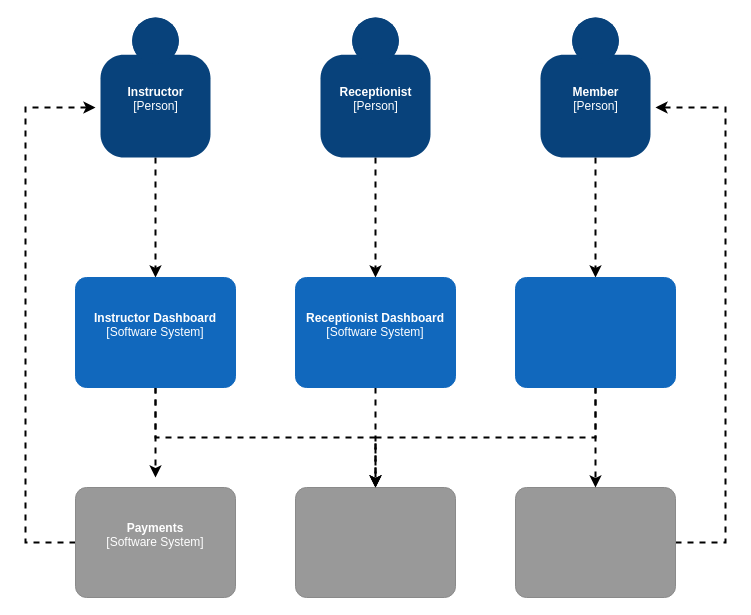
Some shapes in this 751 by 615 pixel diagram are drawn without their labels. The shapes that lost their labels are listed below. From the top down, each one's box as (x1, y1, x2, y2) in pixels, then its label:
(514, 276, 676, 388): Member Dashboard [Software System]
(294, 486, 456, 598): Database [Software System]
(514, 486, 676, 598): Notifications [Software System]
